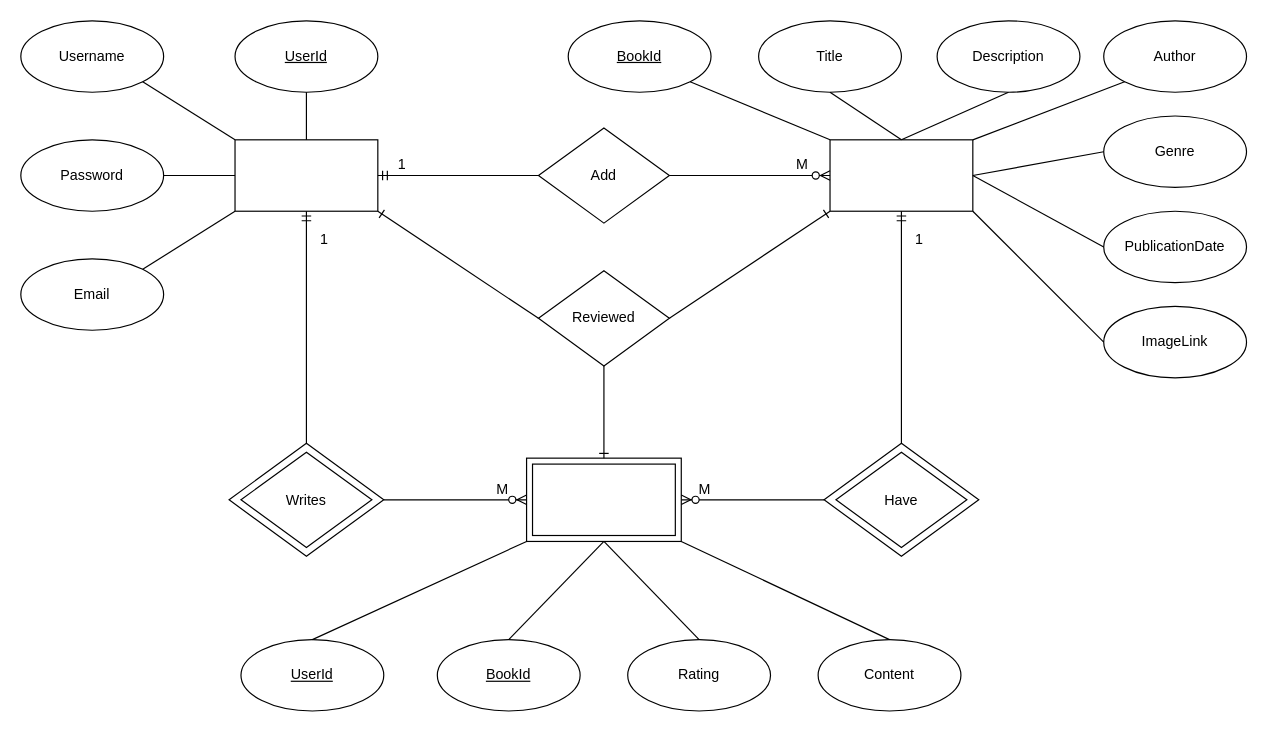
Some shapes in this 1267 by 732 pixel diagram are drawn without their labels. Here are the shapes that lost their labels. From the top down, the centre of each, then its label:
At (x=306, y=175): "Users".
At (x=901, y=175): "Books".
At (x=603, y=499): "Reviews".
